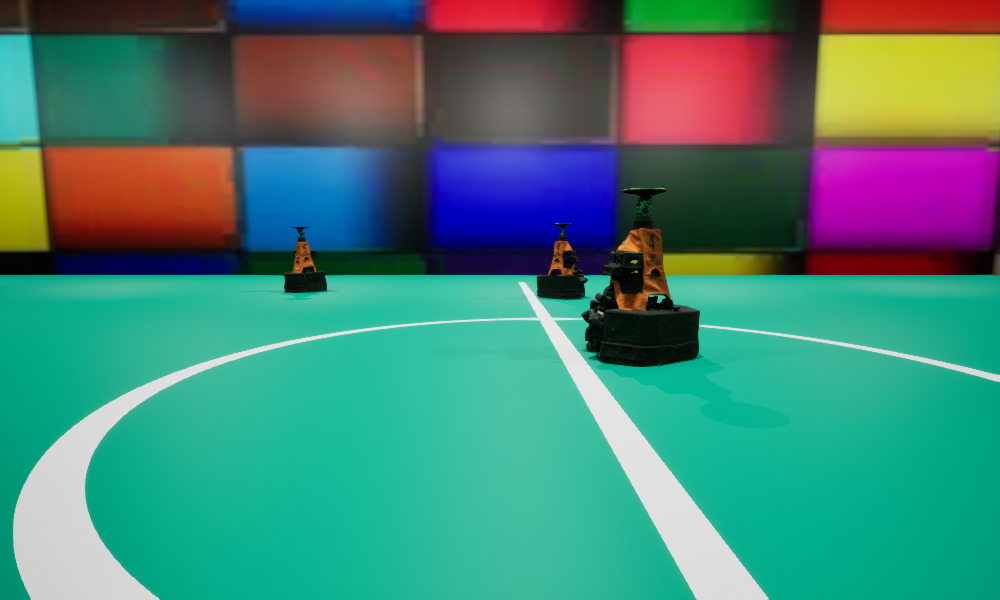0 orange robot TechUnited: (581, 188, 699, 365), (537, 223, 587, 299), (284, 227, 326, 292)
